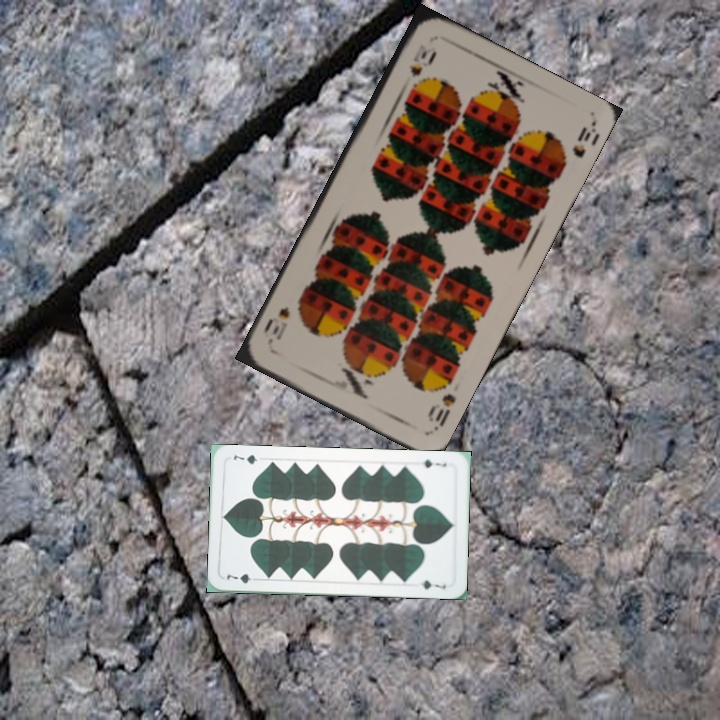G7: (222, 570, 262, 586), (419, 455, 449, 470)
S10: (423, 389, 459, 434), (404, 40, 430, 80)
